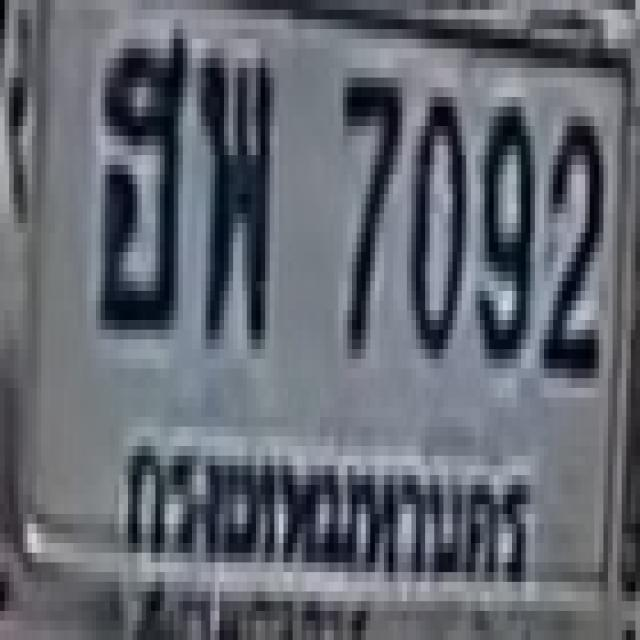-: (96, 29, 183, 320), (197, 48, 270, 340)
0: (407, 87, 462, 349)
2: (539, 106, 599, 368)
7: (338, 68, 398, 349)
9: (471, 102, 530, 354)
BKK: (105, 406, 543, 608)
